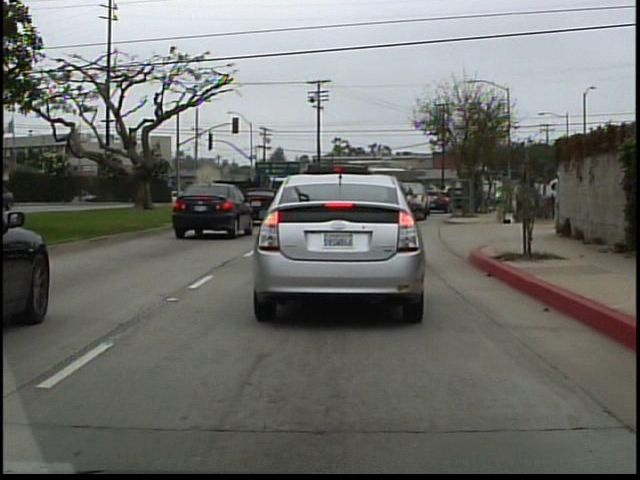person: (546, 164, 566, 241)
